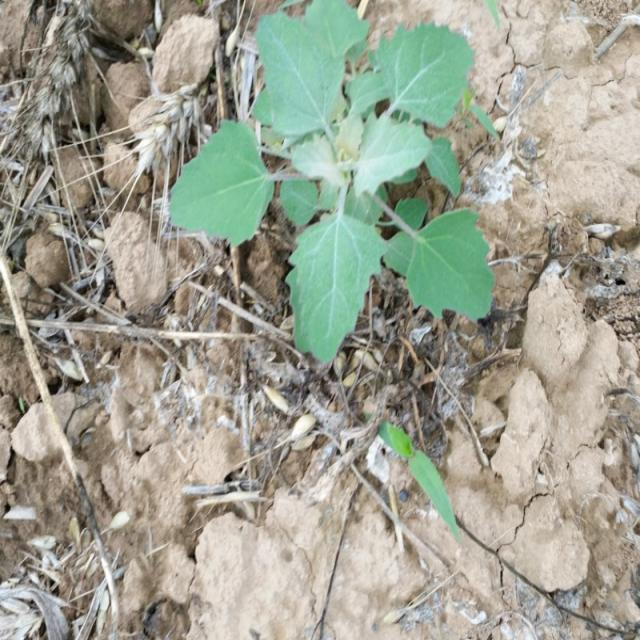goosefoots: (172, 0, 491, 342)
